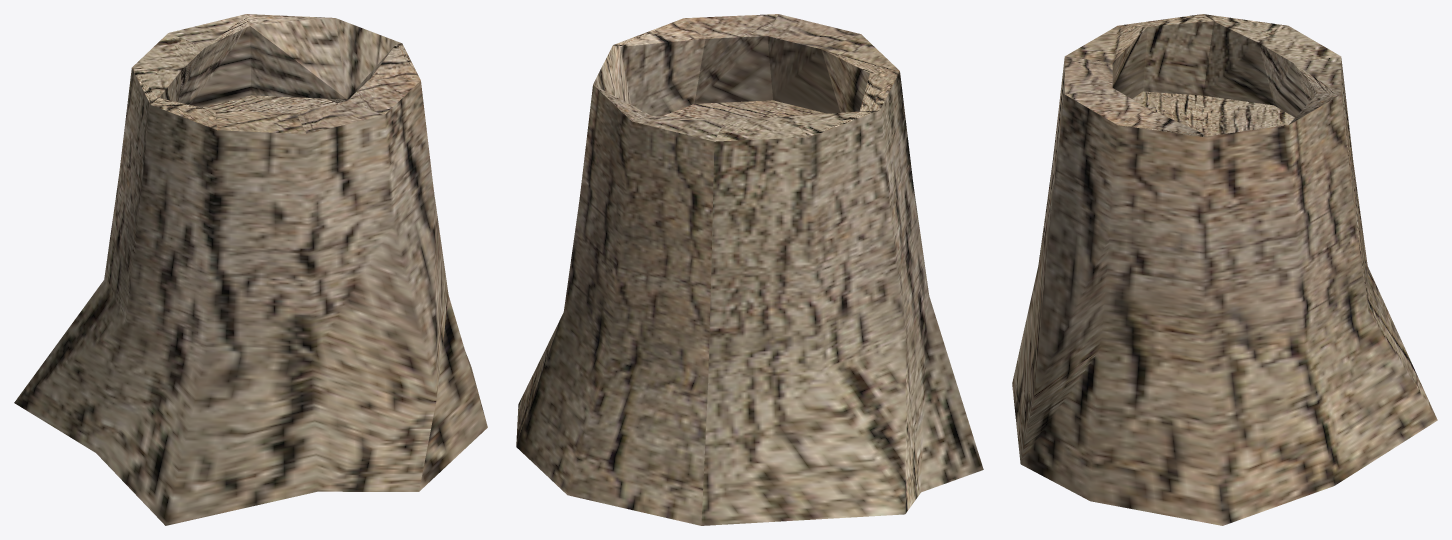
Rendered from tree7.FBX.
3 views of the same model, side by side, from view 1: azimuth 30°, elevation 25°; view 2: azimuth 150°, elevation 25°; view 3: azimuth 270°, elevation 25° (orthographic). The views are drawn at different scales.
Parts seen in each view (by area): view 1: Cylinder001; view 2: Cylinder001; view 3: Cylinder001.
Boxes of the visible parts, x1,y1,x2,y2 form: Cylinder001: (14, 14, 487, 525); Cylinder001: (516, 14, 983, 525); Cylinder001: (1012, 14, 1437, 525).
Size of the model in its own units: 55.4 by 48.33 by 49.69.
